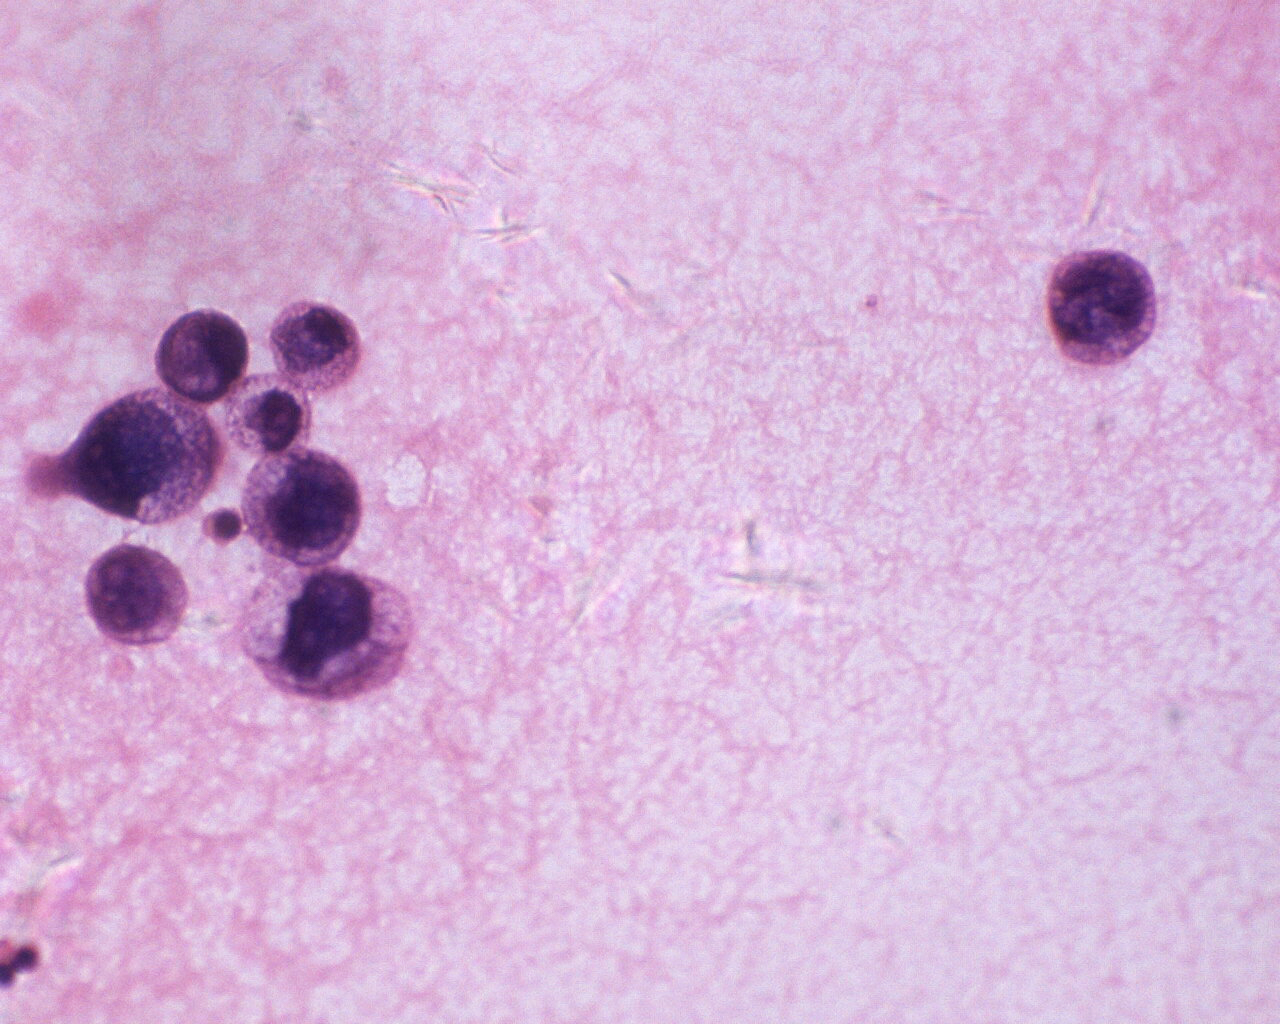ab: (245, 557, 412, 704), (65, 387, 224, 530), (1048, 245, 1160, 370), (245, 451, 362, 566), (85, 540, 194, 653), (265, 298, 366, 393), (156, 306, 250, 404)
